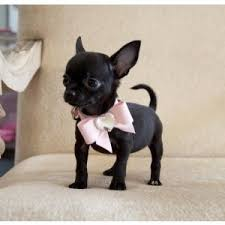chihuahua: (50, 26, 183, 198)
